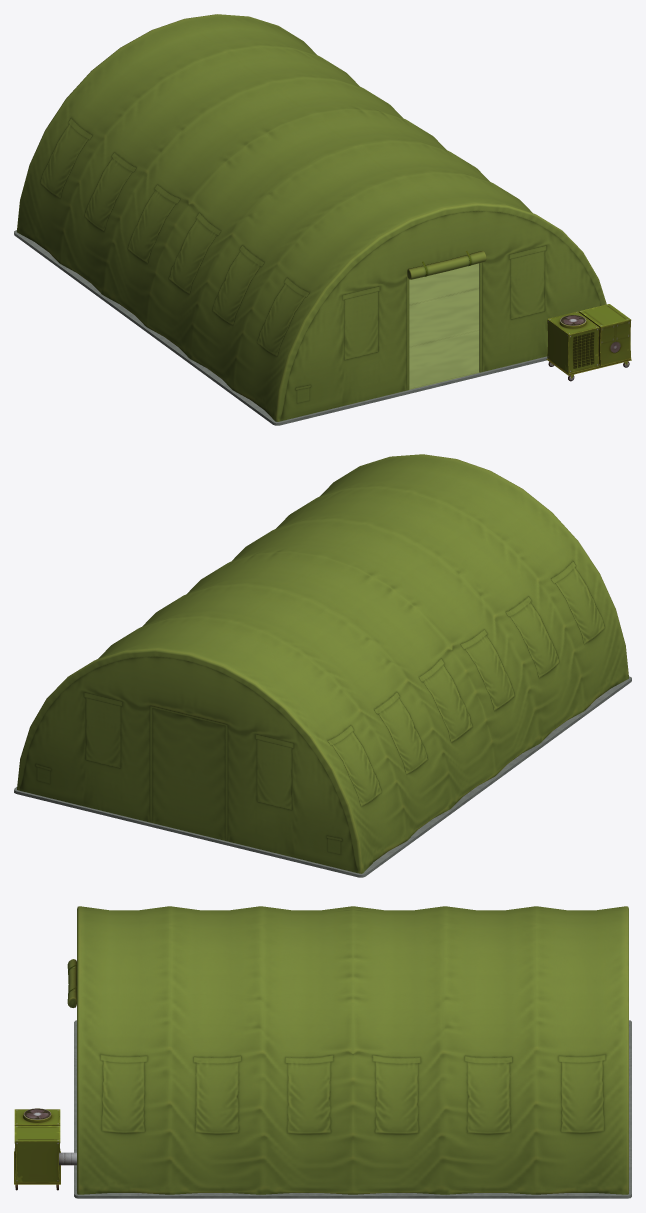
File: Tent01_2.FBX
The picture shows the model from 3 angles, top to bottom: view 1: azimuth 30°, elevation 25°; view 2: azimuth 150°, elevation 25°; view 3: azimuth 270°, elevation 25°; orthographic projection. The views are drawn at different scales.
Visible parts, largest first — view 1: Tent01_2; view 2: Tent01_2; view 3: Tent01_2.
Part boxes in pixels (box(x1,y1,x2,y2)): Tent01_2: box(14, 14, 631, 425); Tent01_2: box(14, 454, 631, 877); Tent01_2: box(14, 906, 631, 1198).
Size of what is drawn, in the model's own units: 6.84 by 3.36 by 10.13.
